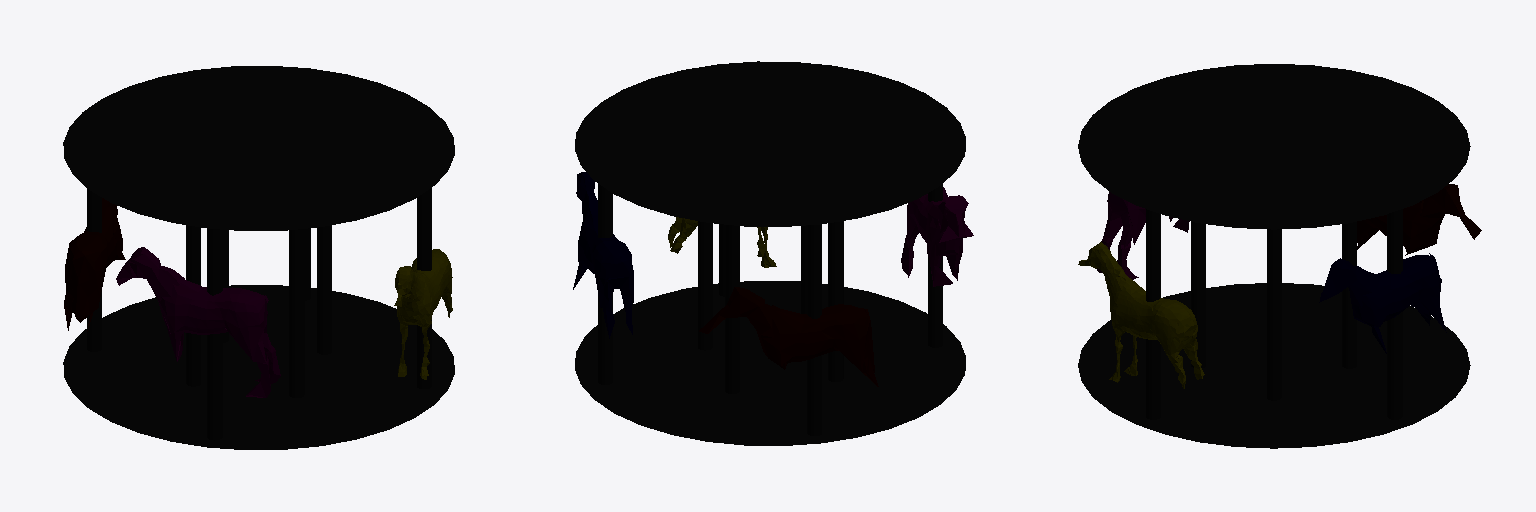
Rendered from carrosselCorpo.obj.
3 views of the same model, side by side, from view 1: azimuth 30°, elevation 25°; view 2: azimuth 150°, elevation 25°; view 3: azimuth 270°, elevation 25° (orthographic).
Parts seen in each view (by area): view 1: Cylinder.001_Cylinder.002, 10026_Horse_v01.001, 10026_Horse_v01.002, 10026_Horse_v01.003; view 2: Cylinder.001_Cylinder.002, 10026_Horse_v01.002, 10026_Horse_v01, 10026_Horse_v01.001, 10026_Horse_v01.003; view 3: Cylinder.001_Cylinder.002, 10026_Horse_v01.003, 10026_Horse_v01, 10026_Horse_v01.002, 10026_Horse_v01.001.
Part boxes in pixels (x1,y1,x2,y2): Cylinder.001_Cylinder.002: (63,66,454,449); 10026_Horse_v01.001: (116,247,280,397); 10026_Horse_v01.002: (64,198,125,331); 10026_Horse_v01.003: (394,249,452,379); Cylinder.001_Cylinder.002: (575,61,965,445); 10026_Horse_v01.002: (699,287,878,386); 10026_Horse_v01: (573,172,633,338); 10026_Horse_v01.001: (901,187,973,286); 10026_Horse_v01.003: (668,217,776,267); Cylinder.001_Cylinder.002: (1078,64,1470,448); 10026_Horse_v01.003: (1078,242,1204,388); 10026_Horse_v01: (1319,253,1446,353); 10026_Horse_v01.002: (1357,184,1481,255); 10026_Horse_v01.001: (1097,192,1189,279).
Size of the model in its own units: 13.12 by 8 by 13.38.